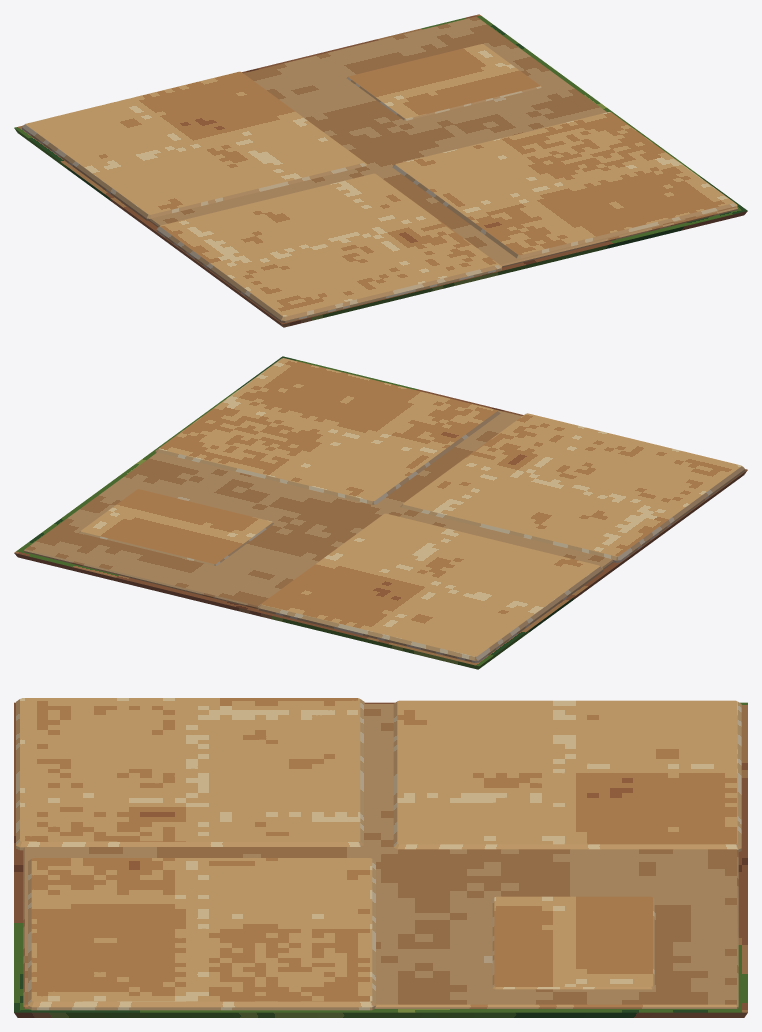
File: ruin.floor__cracked.glb
The picture shows the model from 3 angles, top to bottom: view 1: azimuth 30°, elevation 25°; view 2: azimuth 150°, elevation 25°; view 3: azimuth 270°, elevation 25°; orthographic projection. The views are drawn at different scales.
Parts seen in each view (by area): view 1: kit_slabs, kit_sand, kit_bed; view 2: kit_slabs, kit_sand, kit_bed; view 3: kit_slabs, kit_sand, kit_bed.
Boxes of the visible parts, bbox=[...] form: kit_slabs: bbox=[22, 44, 737, 322]; kit_sand: bbox=[149, 16, 737, 267]; kit_bed: bbox=[14, 14, 747, 327]; kit_slabs: bbox=[79, 358, 744, 662]; kit_sand: bbox=[24, 410, 613, 608]; kit_bed: bbox=[14, 356, 747, 669]; kit_slabs: bbox=[16, 698, 741, 1010]; kit_sand: bbox=[23, 704, 738, 1008]; kit_bed: bbox=[14, 702, 747, 1017].
Bounding box in the file's own units: 4 × 0.08 × 4.
3 materials, 3 textured.
